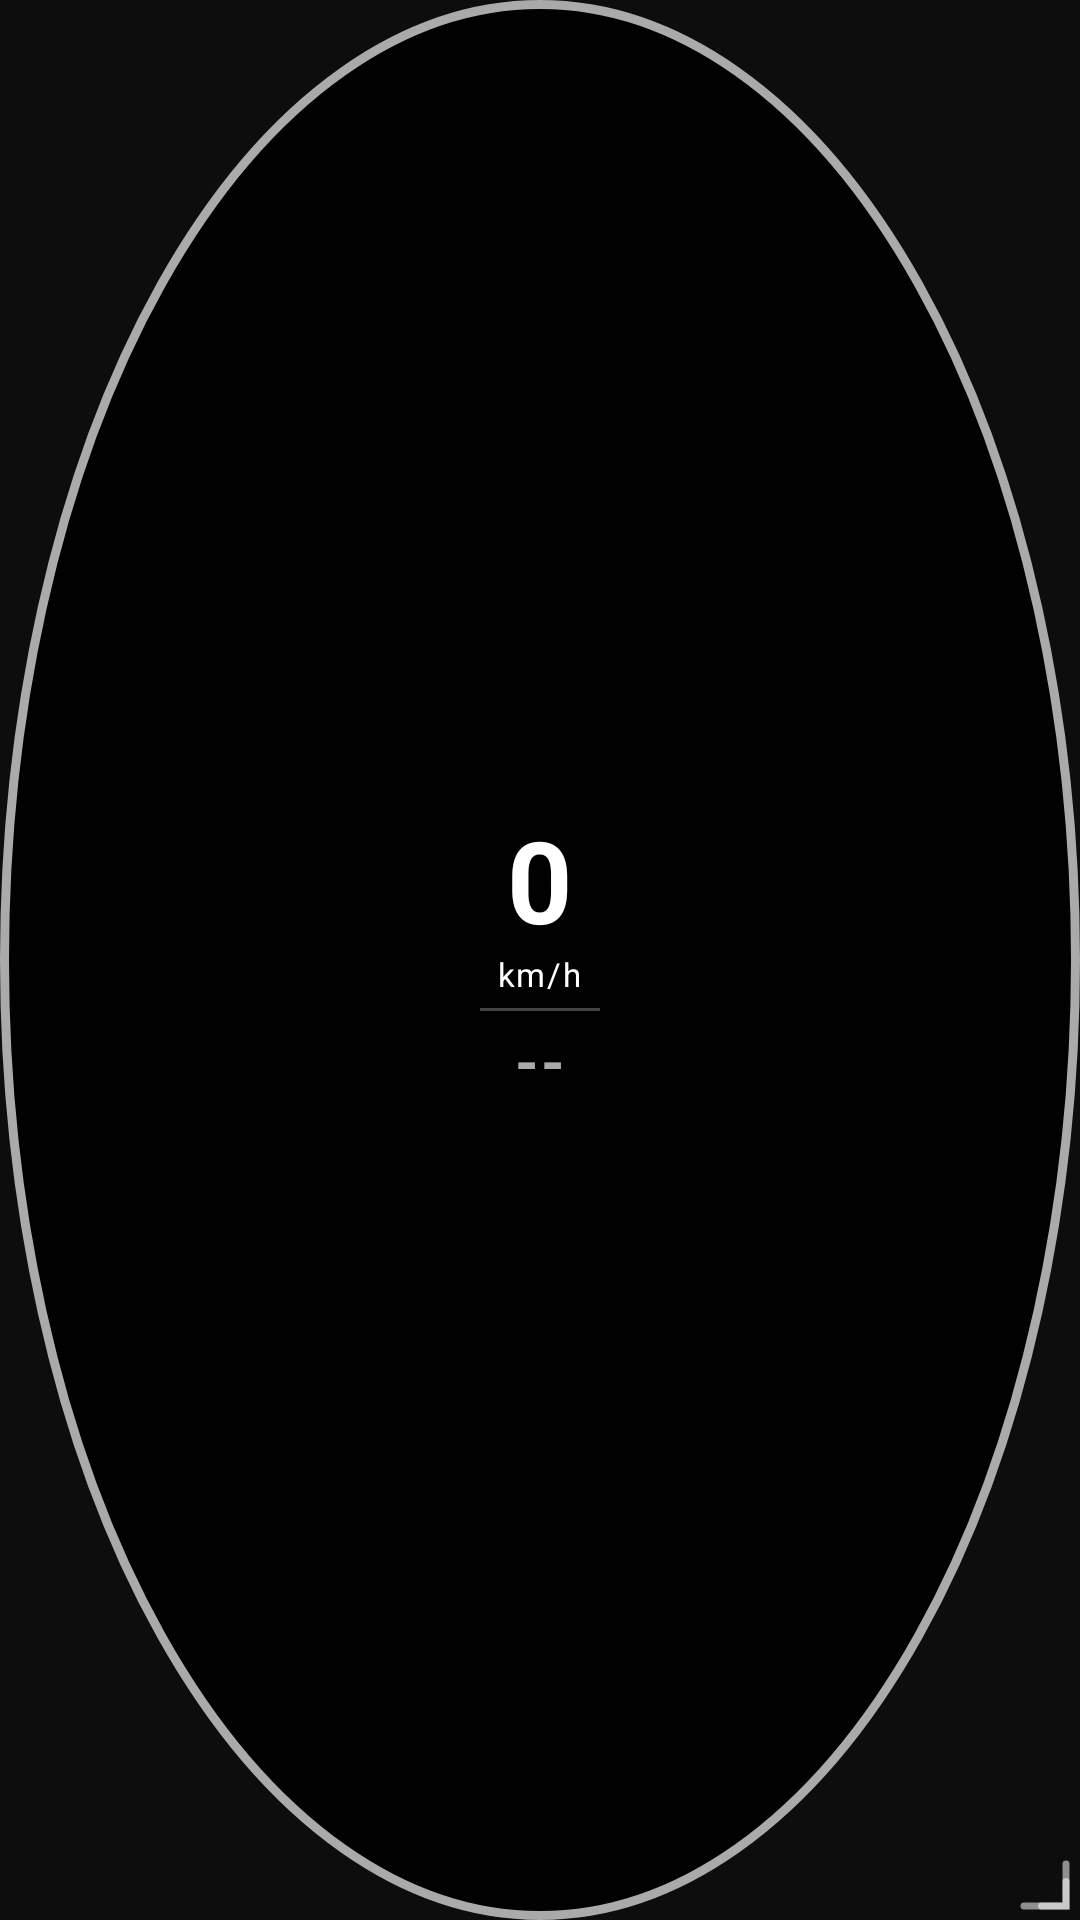

Icons on this 1080w x 1920h Android screen, each with its box as (x1, y1, x2, y2):
resize handle: (1020, 1860, 1070, 1910)
